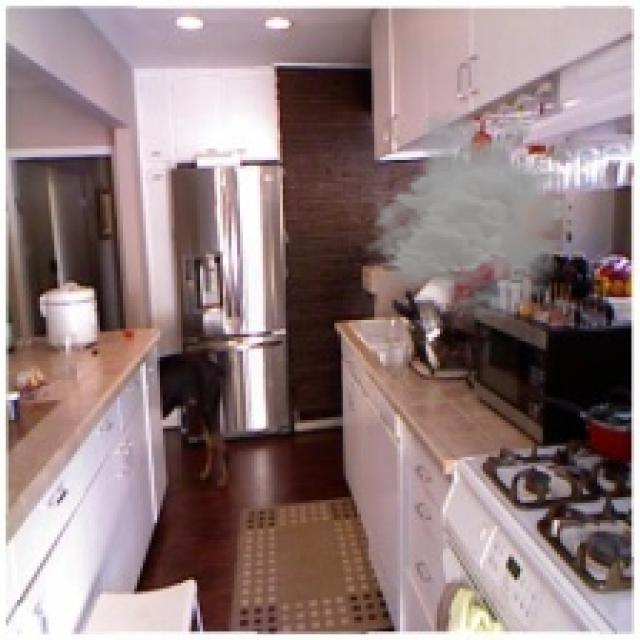smoke: (363, 109, 591, 320)
